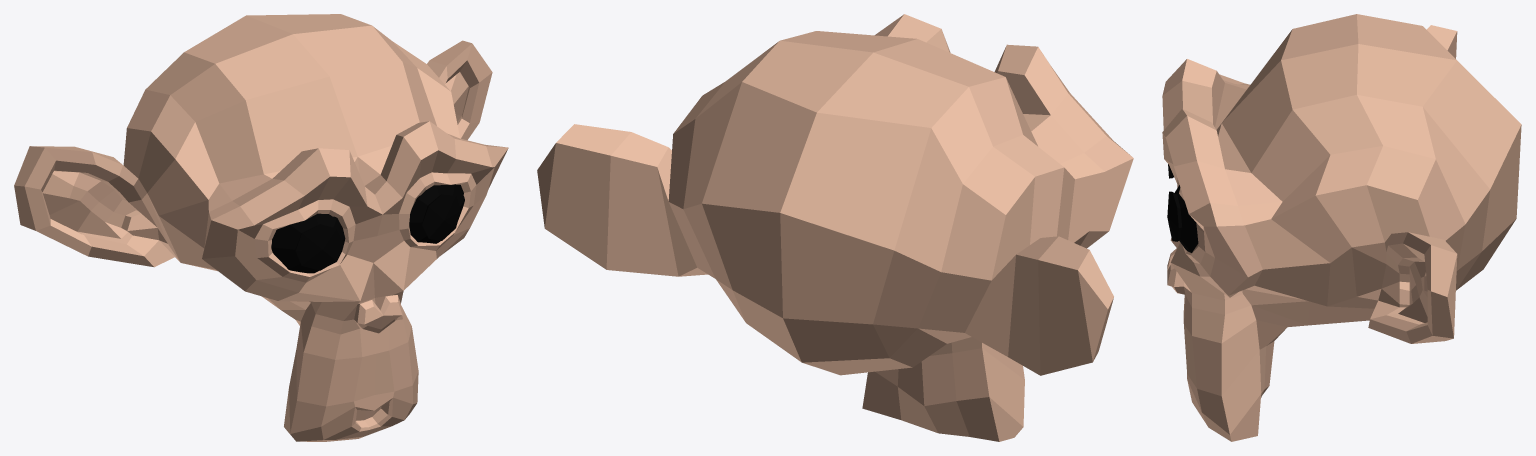
The model's file is suzanne.fbx.
3 renders of one model, left to right at view 1: azimuth 30°, elevation 25°; view 2: azimuth 150°, elevation 25°; view 3: azimuth 270°, elevation 25°, orthographic. The views are drawn at different scales.
Visible parts, largest first — view 1: Suzanne_Baked; view 2: Suzanne_Baked; view 3: Suzanne_Baked.
Part boxes in pixels (x1=…): Suzanne_Baked: x1=14, y1=14, x2=508, y2=441; Suzanne_Baked: x1=537, y1=14, x2=1133, y2=441; Suzanne_Baked: x1=1162, y1=14, x2=1521, y2=441.
Bounding box in the file's own units: 5.72 × 4.12 × 3.56.
1 material, 1 textured.
